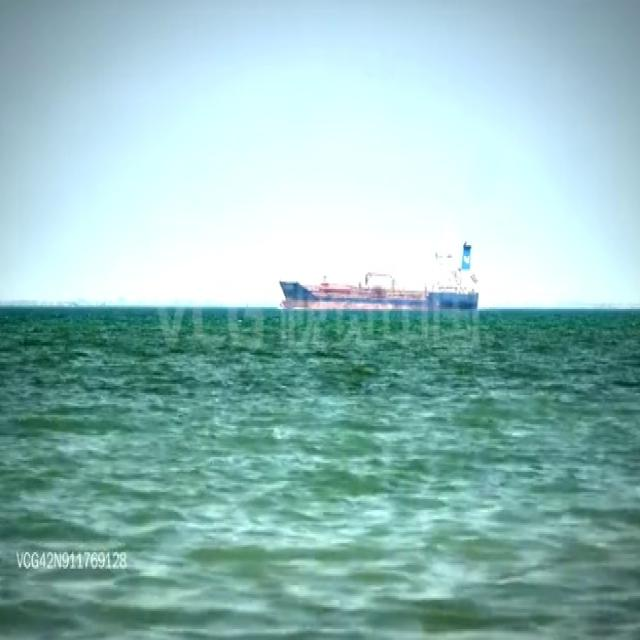cargoship: (280, 234, 480, 318)
